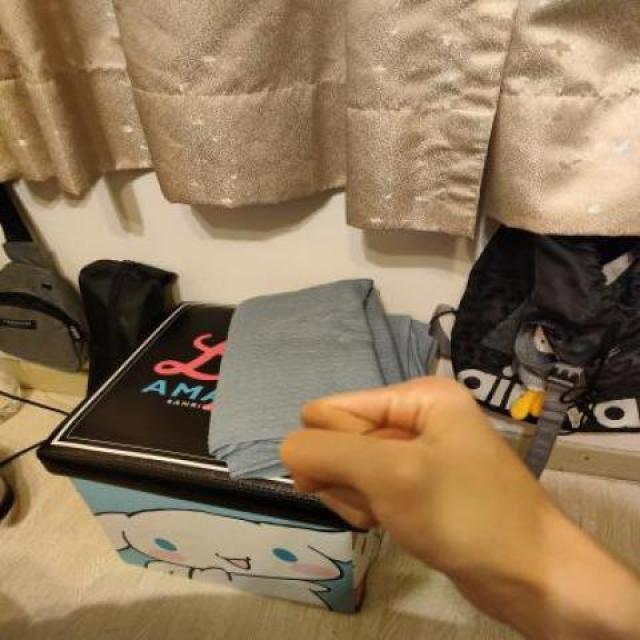Closed Hand: (282, 376, 532, 595)
